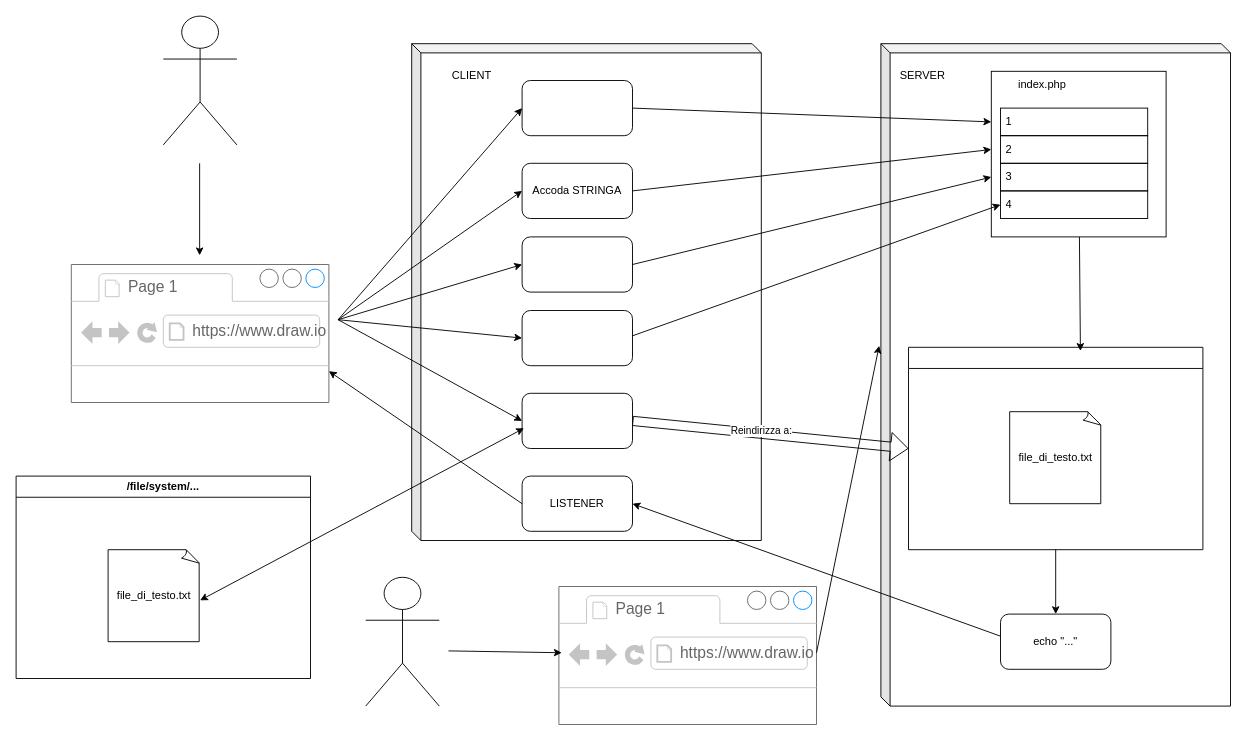
The diagram is 1247 pixels wide and 742 high, and some of its shapes have lost their labels. The shapes that lost their labels are listed below. From the top down, each one's box as (x1, y1, x2, y2) in pixels, then its label:
(162, 15, 237, 145): Utente
(521, 80, 632, 136): Preview
(521, 236, 632, 292): Converti in uppercase
(521, 310, 632, 366): Upload
(521, 392, 632, 448): Download
(908, 346, 1203, 550): /var/www/html/data/file_di_testo.txt
(365, 576, 439, 706): Developer
